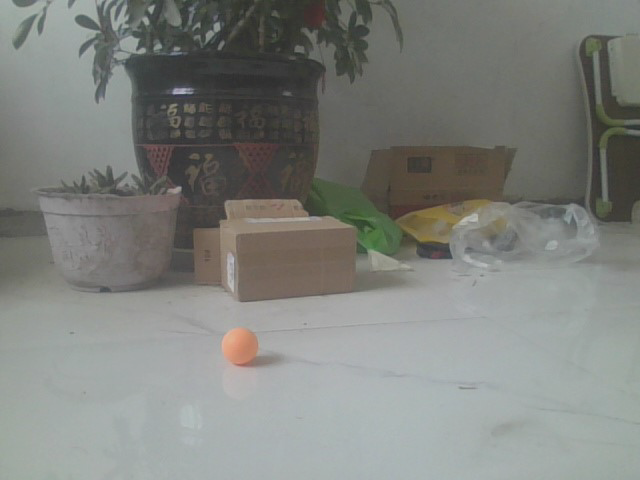ball: (220, 326, 258, 367)
